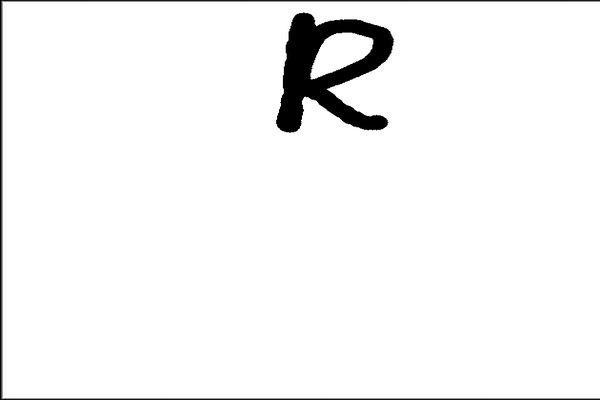R: (270, 4, 411, 141)
